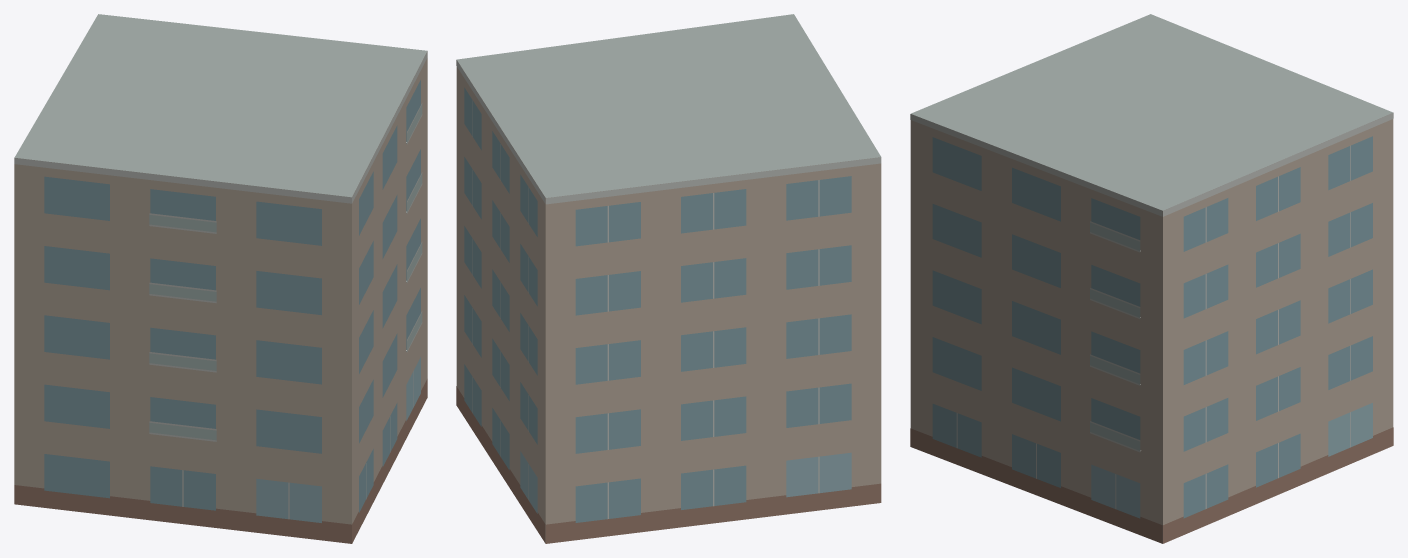
File: survey-upis-32709782.glb
3 renders of one model, left to right at view 1: azimuth 30°, elevation 25°; view 2: azimuth 150°, elevation 25°; view 3: azimuth 270°, elevation 25°, orthographic. The views are drawn at different scales.
Visible parts, largest first — view 1: survey-upis-32709782.tmp; view 2: survey-upis-32709782.tmp; view 3: survey-upis-32709782.tmp.
Boxes of the visible parts, box(x1,y1,x2,y2) form: survey-upis-32709782.tmp: box(14, 14, 427, 543); survey-upis-32709782.tmp: box(456, 14, 881, 543); survey-upis-32709782.tmp: box(910, 14, 1393, 543).
Size of the model in its own units: 16.73 by 13.2 by 17.35.
